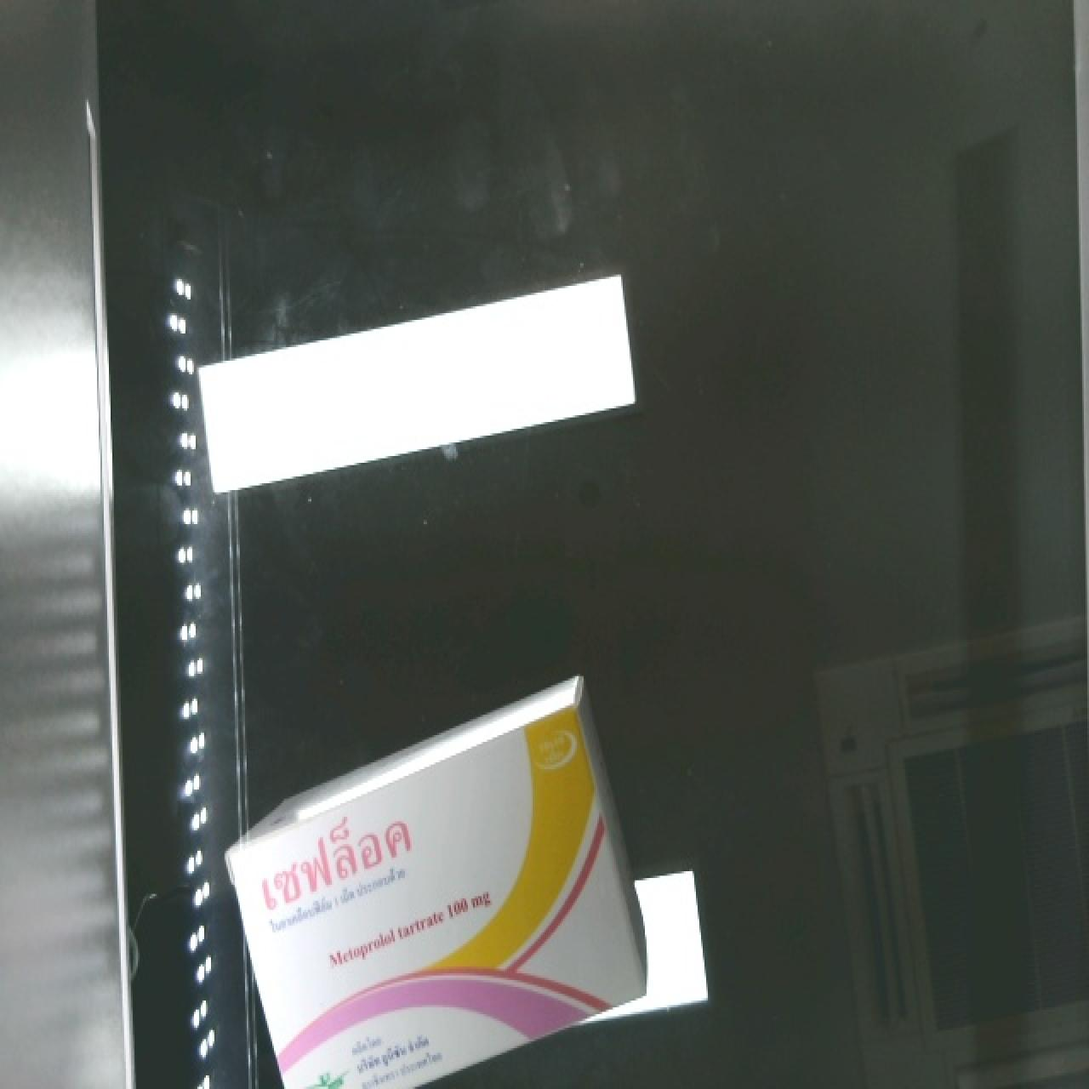medicine_label_obb: (219, 773, 454, 941)
